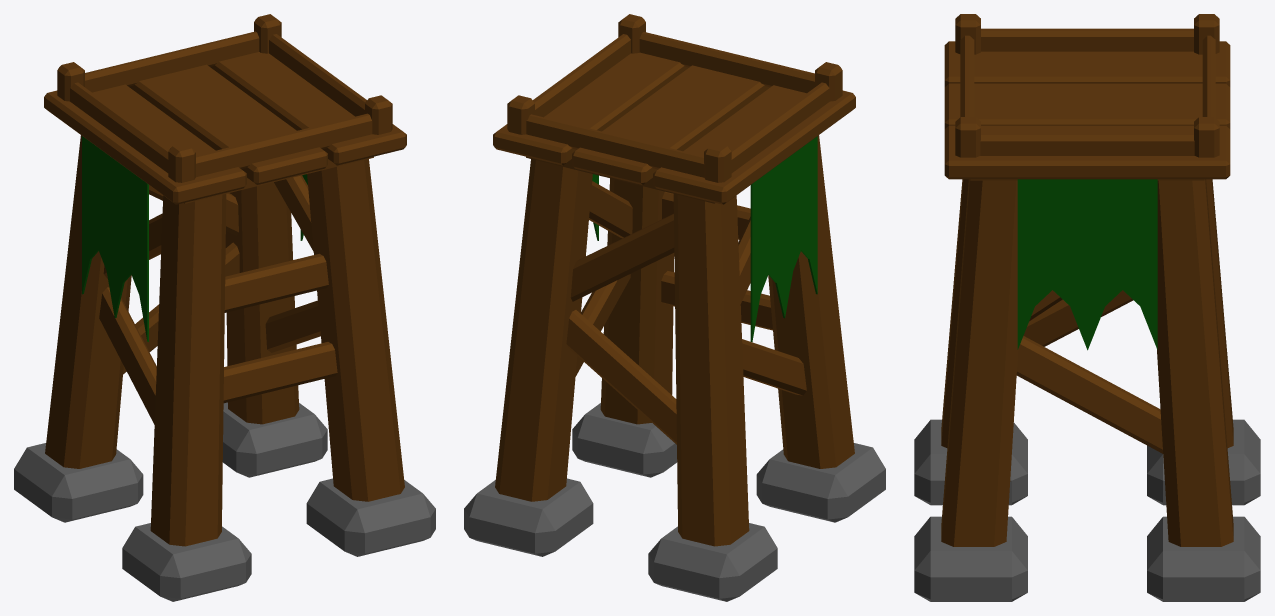
Rendered from GoblinTower2.fbx.
3 renders of one model, left to right at view 1: azimuth 30°, elevation 25°; view 2: azimuth 150°, elevation 25°; view 3: azimuth 270°, elevation 25°, orthographic. The views are drawn at different scales.
Visible parts, largest first — view 1: Cube.002; view 2: Cube.002; view 3: Cube.002.
Part boxes in pixels (x1,y1,x2,y2): Cube.002: [14, 14, 435, 601]; Cube.002: [464, 14, 885, 601]; Cube.002: [914, 14, 1260, 601].
Size of the model in its own units: 3.07 by 4.62 by 3.1.
